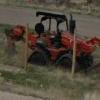Tractor: (23, 7, 100, 72)
